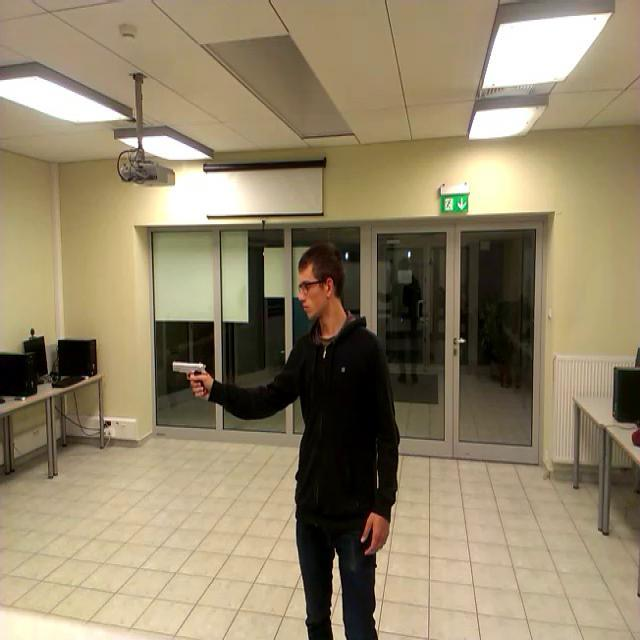Gun: (172, 361, 206, 394)
